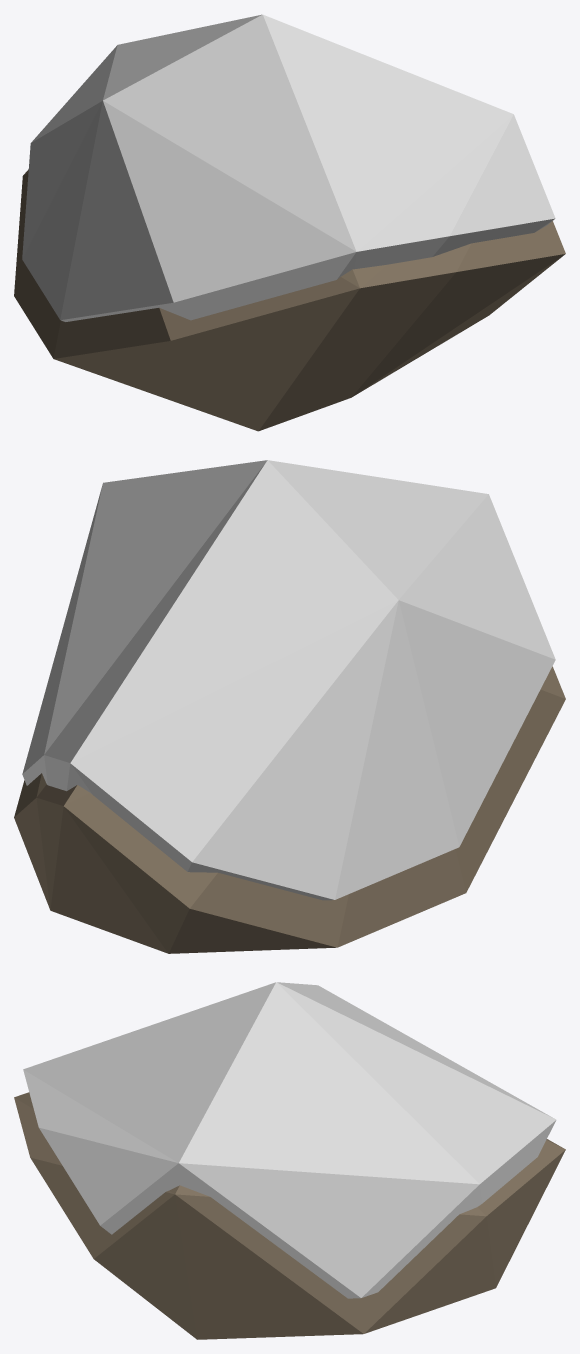
File: Stone_2_snow_brown_mat.fbx
3 views of the same model, one above another, from view 1: azimuth 30°, elevation 25°; view 2: azimuth 150°, elevation 25°; view 3: azimuth 270°, elevation 25° (orthographic). The views are drawn at different scales.
Visible parts, largest first — view 1: Stone_2_snow_brown_mat; view 2: Stone_2_snow_brown_mat; view 3: Stone_2_snow_brown_mat.
Part boxes in pixels (x1,y1,x2,y2): Stone_2_snow_brown_mat: (14, 14, 565, 431); Stone_2_snow_brown_mat: (14, 460, 565, 953); Stone_2_snow_brown_mat: (14, 982, 565, 1339).
Size of the model in its own units: 27.27 by 20.73 by 37.23.
